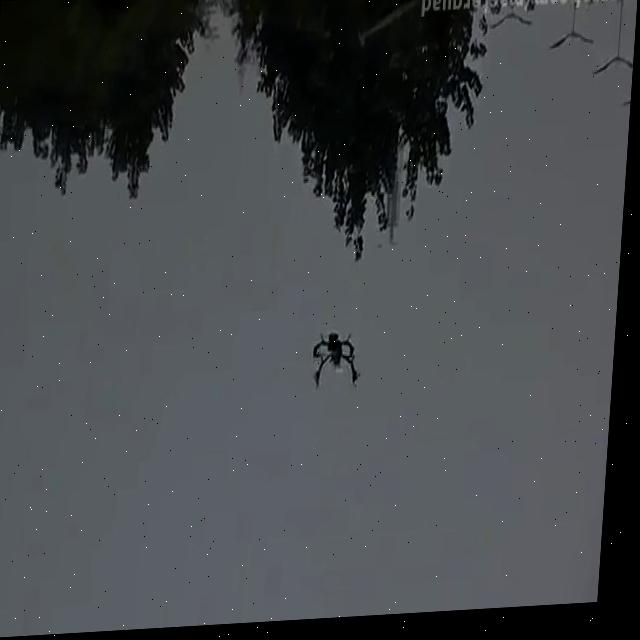drone: (314, 332, 370, 400)
